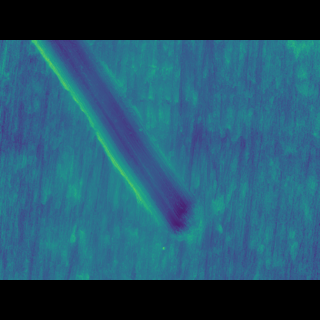Loch: (28, 69, 204, 224)
